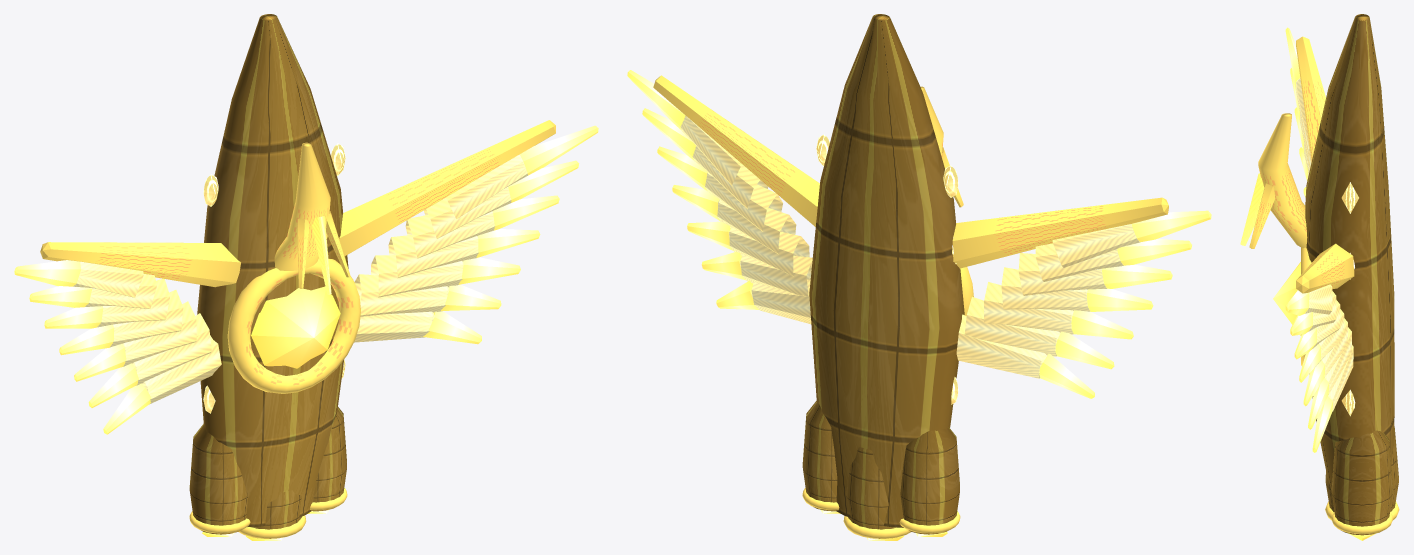
The model's file is ship_s1_gold_phoenix.glb.
3 renders of one model, left to right at view 1: azimuth 30°, elevation 25°; view 2: azimuth 150°, elevation 25°; view 3: azimuth 270°, elevation 25°, orthographic. The views are drawn at different scales.
Parts seen in each view (by area): view 1: ship_s1_gold_phoenix; view 2: ship_s1_gold_phoenix; view 3: ship_s1_gold_phoenix.
Part boxes in pixels (bbox=[...]): ship_s1_gold_phoenix: bbox=[14, 14, 598, 540]; ship_s1_gold_phoenix: bbox=[627, 14, 1211, 540]; ship_s1_gold_phoenix: bbox=[1240, 14, 1399, 540].
Size of the model in its own units: 4.42 by 3.78 by 1.07.
Materials: 4 (4 with a texture image).
